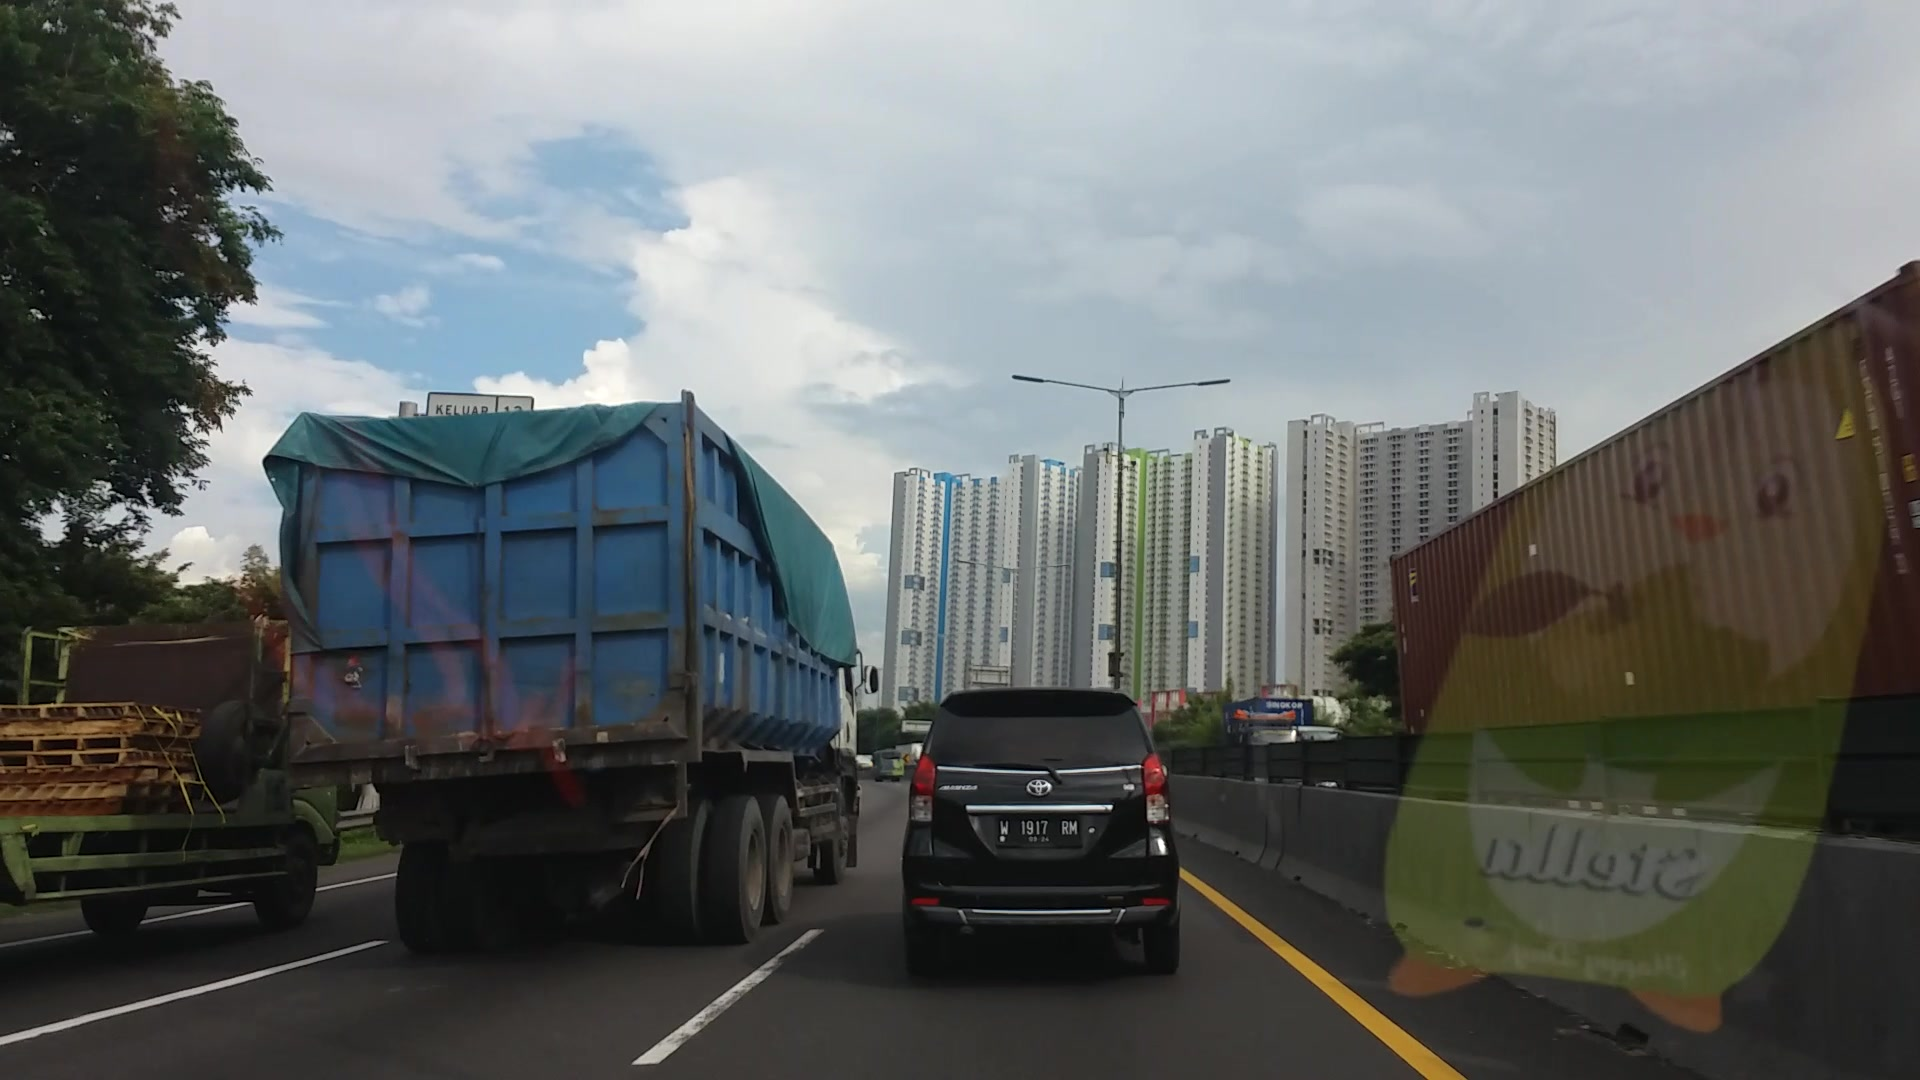plate_positive: (997, 818, 1080, 844)
